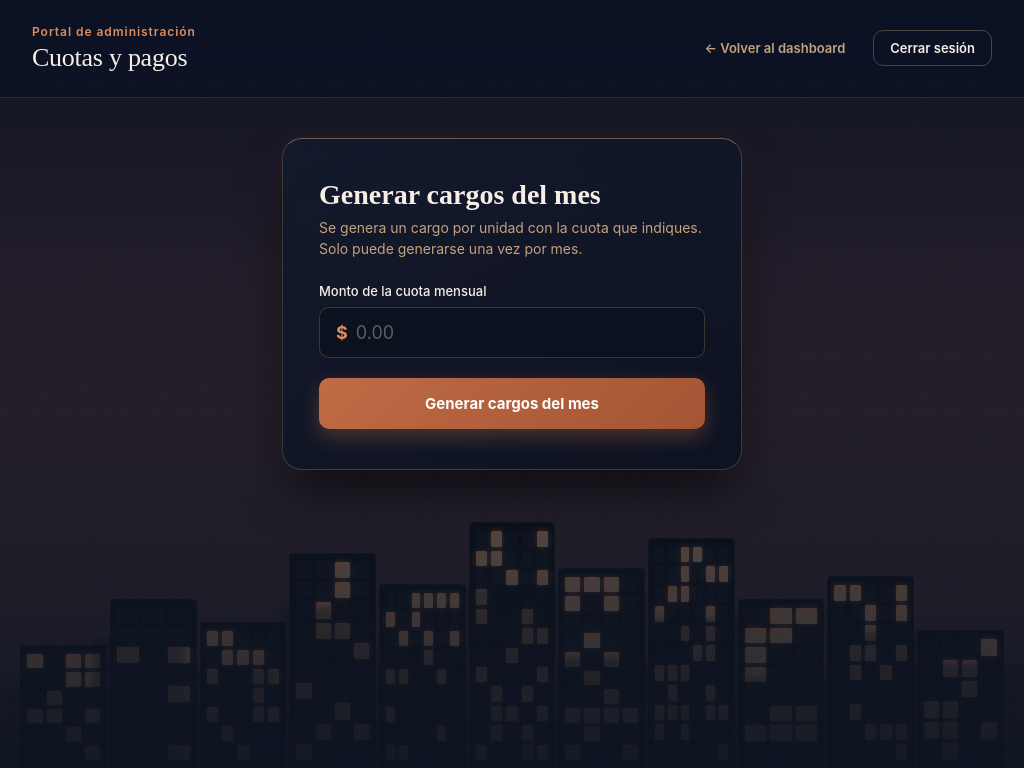
Test case: CU-06 GenerarCargosPage › lista las unidades omitidas por ya tener cargo
In the field labelled "Monto de la cuota mensual $": (522, 332) [356,308,688,357], type "1500"
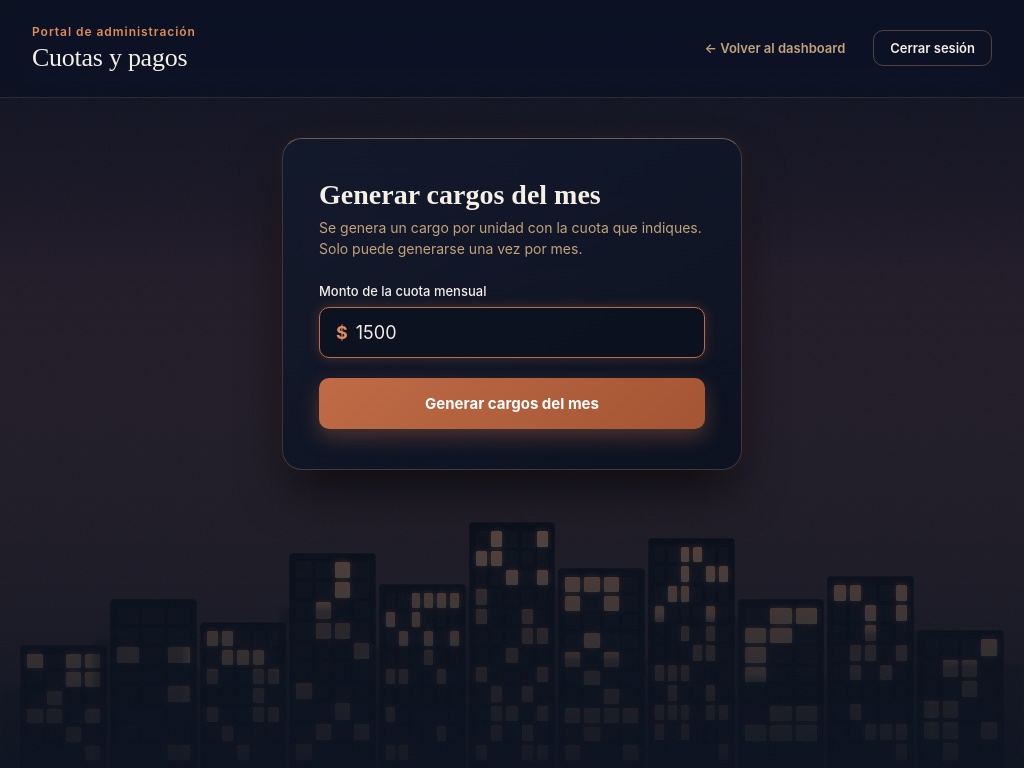
Click the button "Generar cargos del mes": (512, 403) [319,378,705,429]
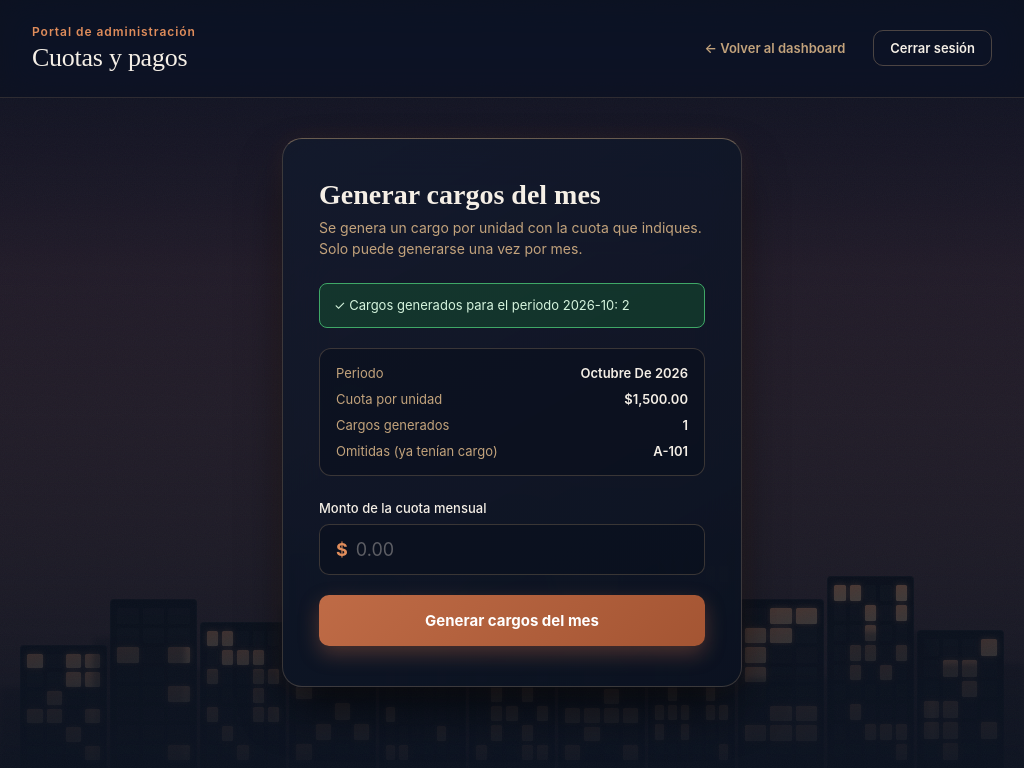
Check: the text "Omitidas (ya tenían cargo)" is shown, box [336,443,498,459]
Check: the text "A-101" is shown, box [653,443,688,459]
